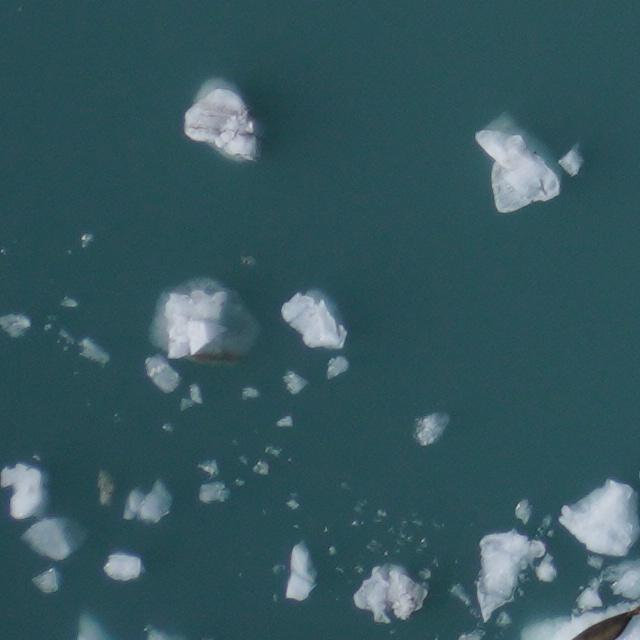seal: (569, 604, 639, 639)
